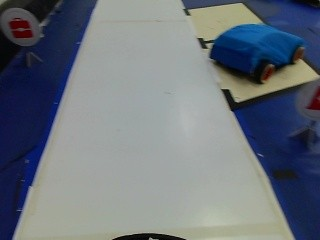car: (201, 17, 311, 85)
company: (0, 9, 42, 50)
